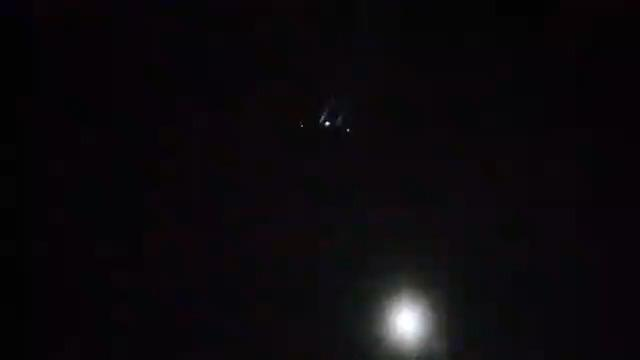Plane: (281, 98, 371, 139)
